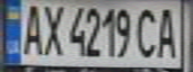1: (100, 3, 118, 57)
2: (81, 2, 103, 57)
4: (63, 2, 87, 57)
9: (115, 3, 136, 59)
A: (154, 3, 181, 60), (18, 0, 45, 56)
C: (133, 3, 160, 59)
X: (39, 1, 66, 56)
